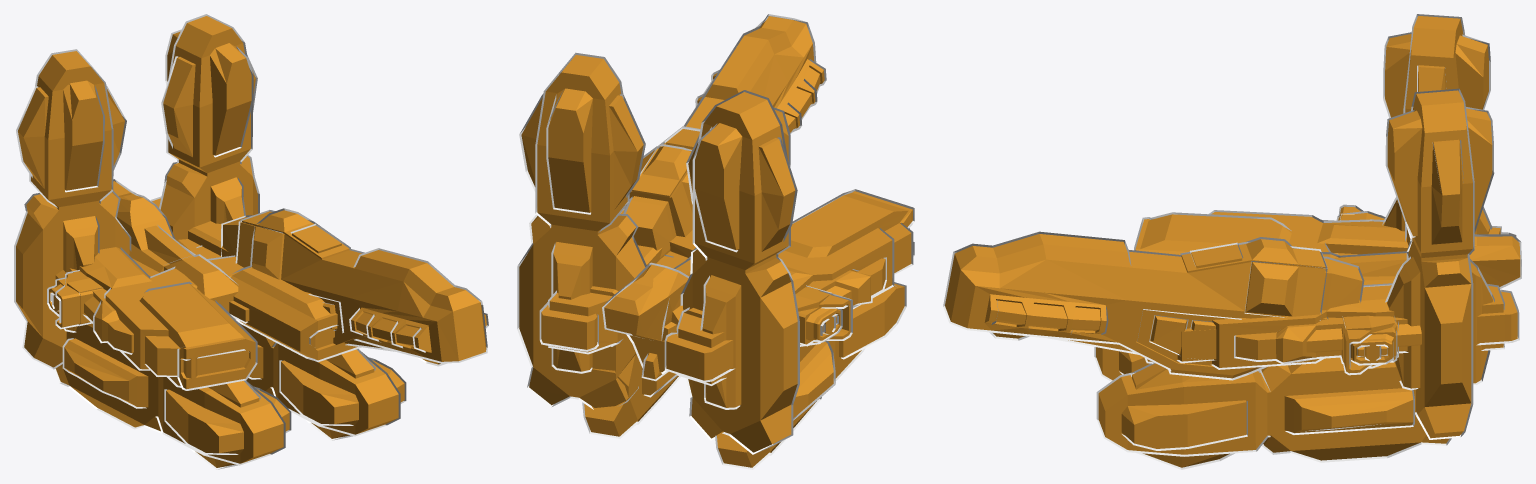
Rendered from ship13_orange.glb.
3 renders of one model, left to right at view 1: azimuth 30°, elevation 25°; view 2: azimuth 150°, elevation 25°; view 3: azimuth 270°, elevation 25°, orthographic. The views are drawn at different scales.
Parts seen in each view (by area): view 1: ME_ship_IndexedFaceSet; view 2: ME_ship_IndexedFaceSet; view 3: ME_ship_IndexedFaceSet.
Part boxes in pixels (x1,y1,x2,y2): ME_ship_IndexedFaceSet: (14,14,488,469); ME_ship_IndexedFaceSet: (517,14,914,469); ME_ship_IndexedFaceSet: (943,14,1521,469).
Size of the model in its own units: 307 by 364 by 524.
